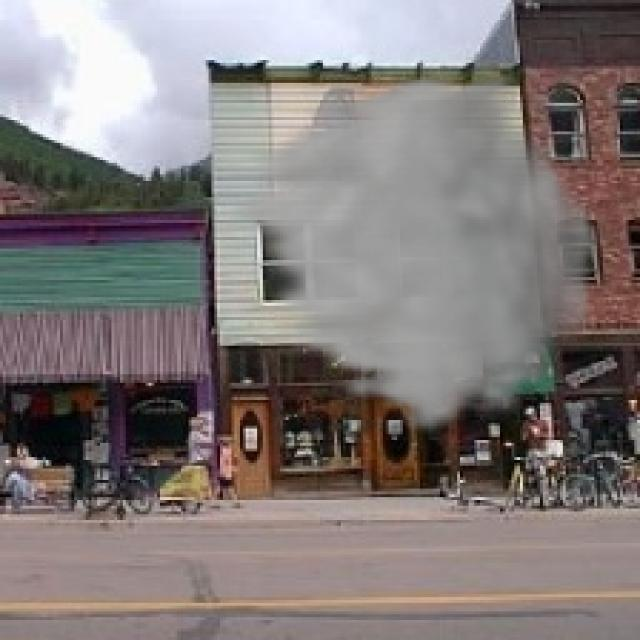Smoke: (217, 72, 606, 437)
